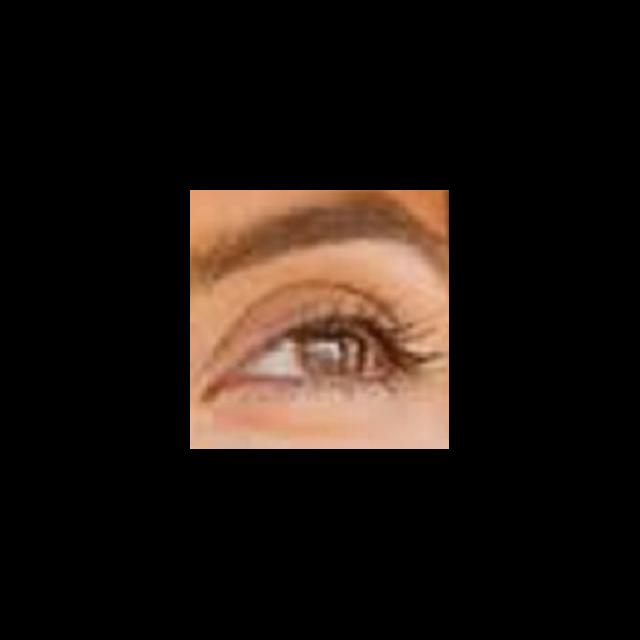eye: (238, 323, 378, 384)
iris: (298, 332, 368, 378)
